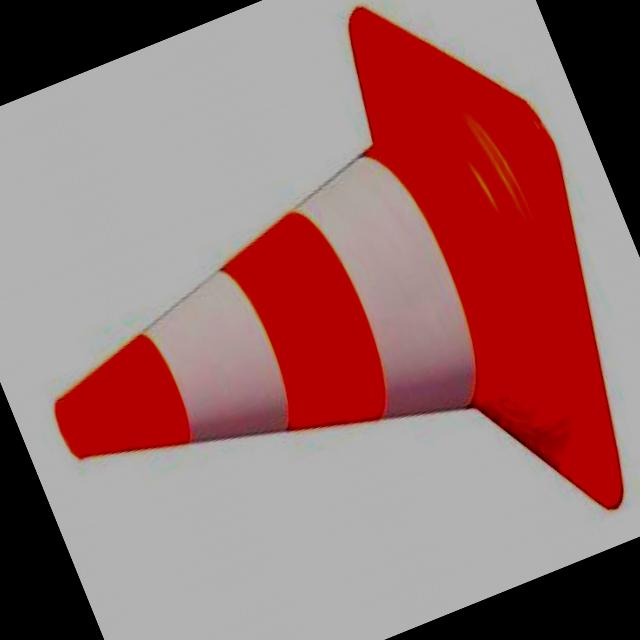cone: (0, 21, 639, 614)
